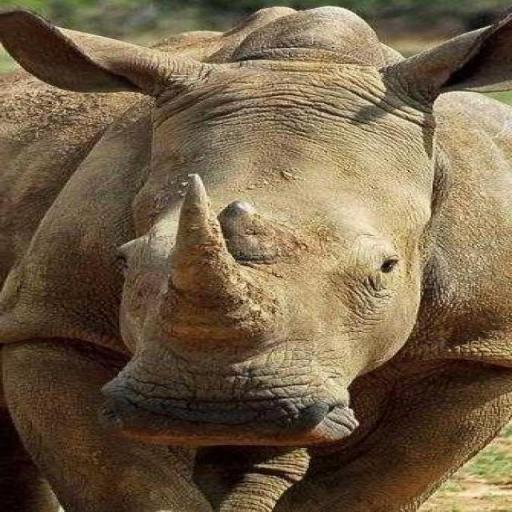Rhino: (0, 4, 509, 510)
